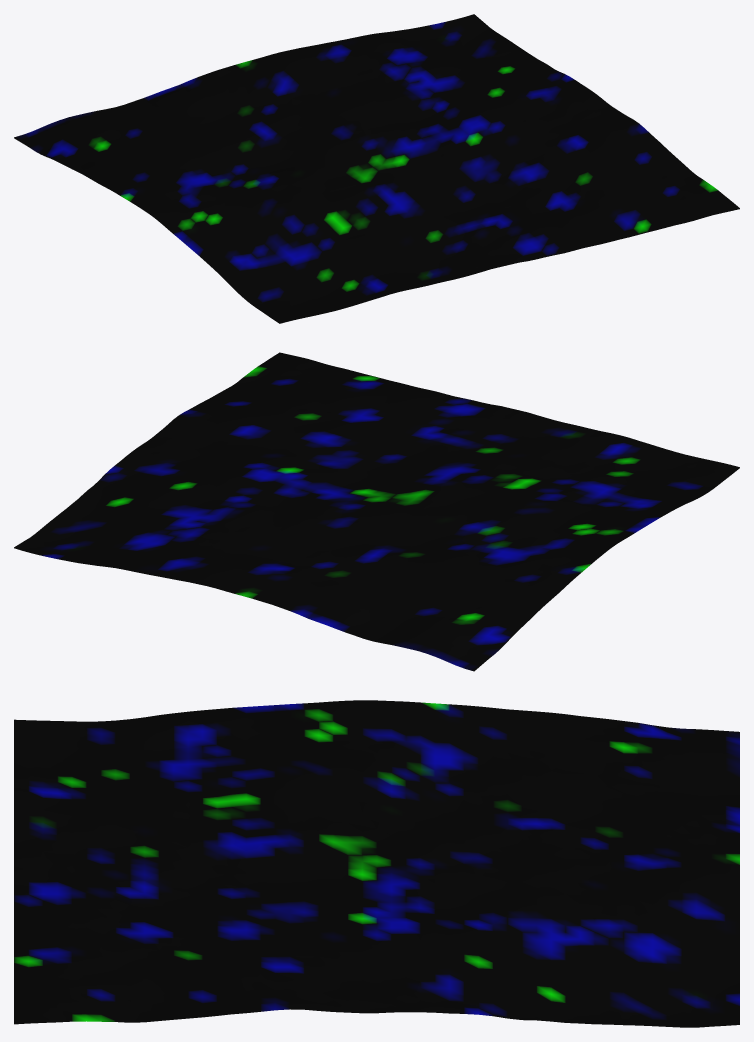
File: coast_-800_-2400_800.glb
3 renders of one model, top to bottom at view 1: azimuth 30°, elevation 25°; view 2: azimuth 150°, elevation 25°; view 3: azimuth 270°, elevation 25°, orthographic. The views are drawn at different scales.
Visible parts, largest first — view 1: terrain; view 2: terrain; view 3: terrain.
Part boxes in pixels (x1=…): terrain: x1=14, y1=14, x2=739, y2=323; terrain: x1=14, y1=352, x2=739, y2=671; terrain: x1=14, y1=700, x2=739, y2=1027.
Size of the model in its own units: 800 by 39.95 by 800.
